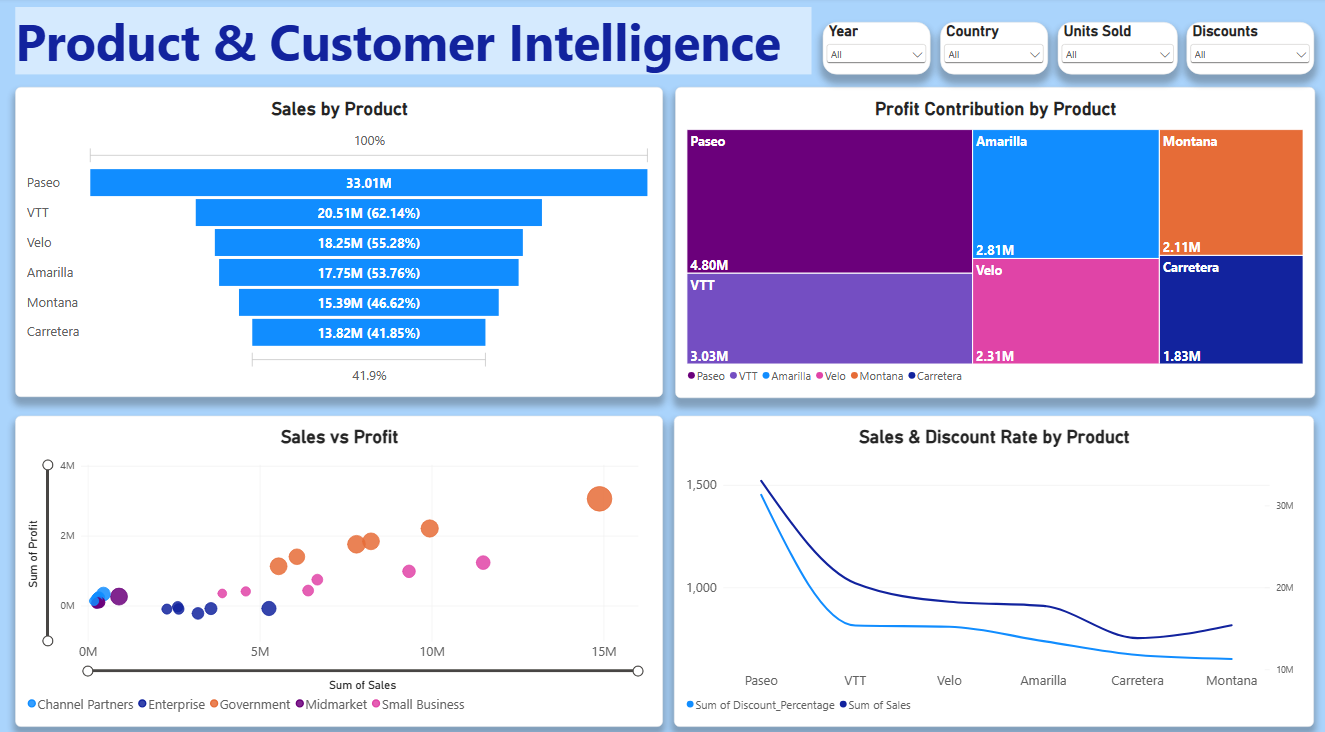

Layout of this report page (visuals, bound fields, positions):
{"tool":"powerbi","page":{"name":"Product & Customer Intelligence","canvas":[1920,1080],"ordinal":1},"visuals":[{"type":"textbox","box":[23.5,14.5,1152.8,97.7],"z":0},{"type":"treemap","title":"Profit Contribution by Product","fields":{"Group":["Cleaned_Data.Product"],"Values":["Sum(Cleaned_Data.Profit)"]},"box":[978.2,129.8,926.3,450],"z":1000},{"type":"funnel","title":"Sales by Product","fields":{"Category":["Cleaned_Data.Product"],"Y":["Sum(Cleaned_Data.Sales)"]},"box":[23.5,130.3,937.4,448.8],"z":2000},{"type":"scatterChart","title":"Sales vs Profit","fields":{"Category":["Cleaned_Data.Product"],"Series":["Cleaned_Data.Segment"],"Size":["Sum(Cleaned_Data.Units Sold)"],"X":["Sum(Cleaned_Data.Sales)"],"Y":["Sum(Cleaned_Data.Profit)"]},"box":[23.5,606.2,937.4,450.6],"z":3000},{"type":"lineChart","title":"Sales & Discount Rate by Product","fields":{"Category":["Cleaned_Data.Product"],"Y":["Sum(Cleaned_Data.Discount_Percentage)"],"Y2":["Sum(Cleaned_Data.Sales)"]},"box":[978,606,926,450],"z":4000},{"type":"slicer","fields":{"Values":["Cleaned_Data.Country"]},"box":[1362.7,36.2,155.6,76],"z":5000},{"type":"slicer","fields":{"Values":["Cleaned_Data.Year"]},"box":[1192.6,36.2,155.6,76],"z":6000},{"type":"slicer","fields":{"Values":["Cleaned_Data.Discounts"]},"box":[1719.2,36.2,184.6,76],"z":7000},{"type":"slicer","fields":{"Values":["Cleaned_Data.Units Sold"]},"box":[1532.8,36.2,173.7,76],"z":8000}]}

Visuals, with their boxes in screenshot pixels (x1, y1, x2, y2), scaled from the page's 1920x1080 canvas onto the 1325x732 screenshot:
textbox: detection(16, 10, 812, 76)
"Profit Contribution by Product" treemap: detection(675, 88, 1314, 393)
"Sales by Product" funnel: detection(16, 88, 663, 393)
"Sales vs Profit" scatterChart: detection(16, 411, 663, 716)
"Sales & Discount Rate by Product" lineChart: detection(675, 411, 1314, 716)
slicer - Cleaned_Data.Country: detection(940, 25, 1048, 76)
slicer - Cleaned_Data.Year: detection(823, 25, 930, 76)
slicer - Cleaned_Data.Discounts: detection(1186, 25, 1314, 76)
slicer - Cleaned_Data.Units Sold: detection(1058, 25, 1178, 76)
